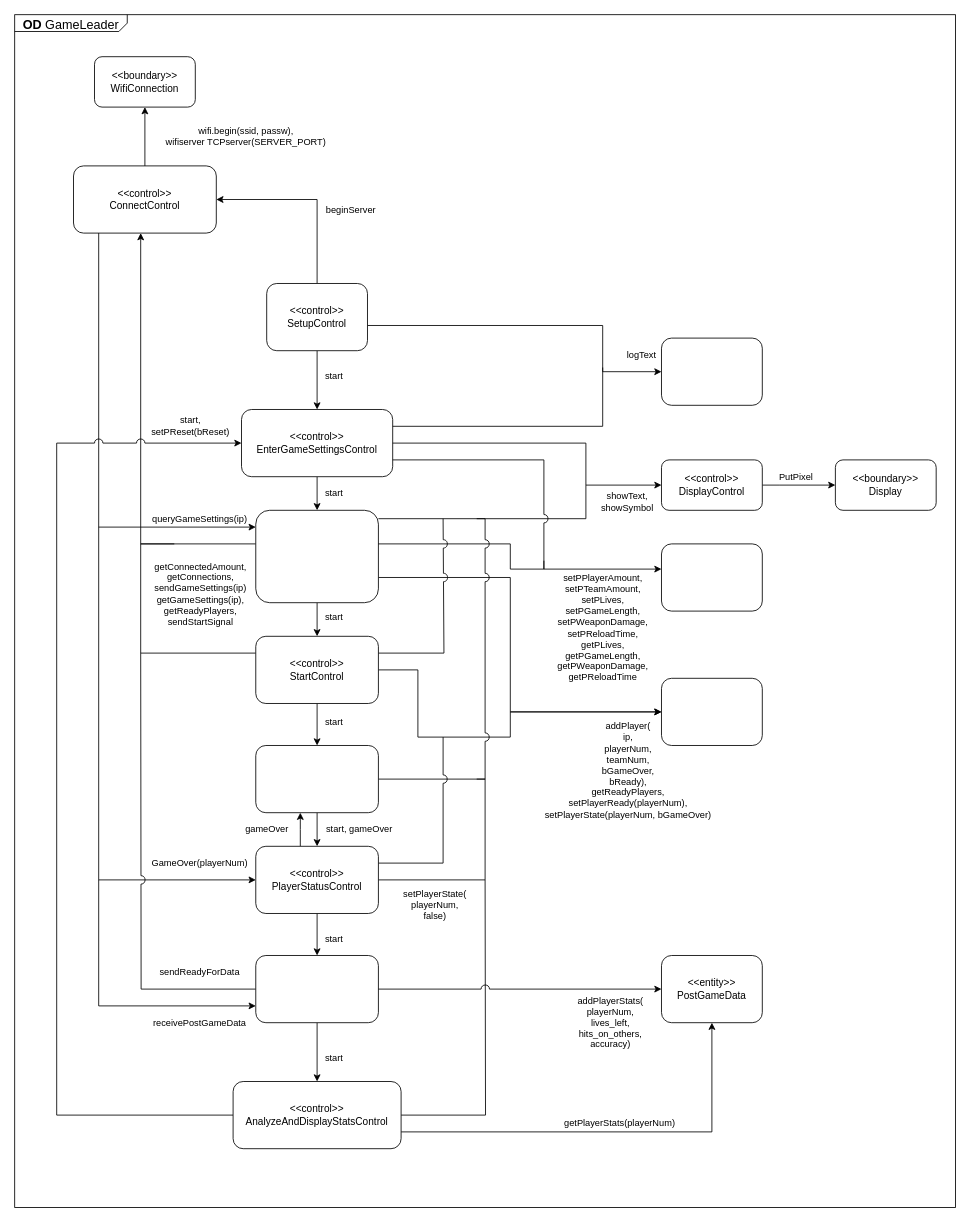
This 970x1222 diagram has some shape labels left out. The centre of each missing label's shape, as x and y in pixels:
<<control>> GameTimerControl: (x=316, y=779)
<<control>> PlayerSetupControl: (x=316, y=556)
<<control>> ReceivePostGameData: (x=316, y=989)
<<entity>> GameSettings: (x=711, y=577)
<<entity>> PlayerData: (x=711, y=711)
ILogger: (x=711, y=371)
